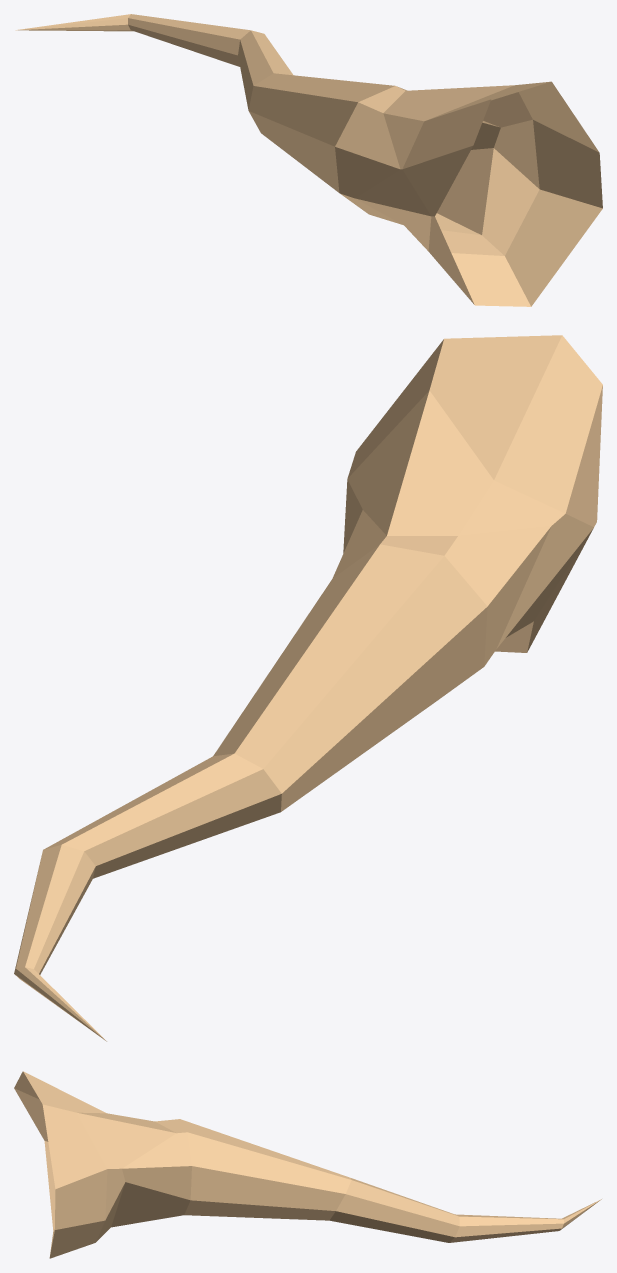
The model's file is Branch 9.fbx.
The picture shows the model from 3 angles, top to bottom: view 1: azimuth 30°, elevation 25°; view 2: azimuth 150°, elevation 25°; view 3: azimuth 270°, elevation 25°; orthographic projection. The views are drawn at different scales.
Visible parts, largest first — view 1: Branch 9; view 2: Branch 9; view 3: Branch 9.
Part boxes in pixels (<box>): Branch 9: <box>15,14,602,306</box>; Branch 9: <box>14,335,602,1041</box>; Branch 9: <box>14,1071,601,1258</box>.
Bounding box in the file's own units: 9.01 × 9.98 × 31.83.
